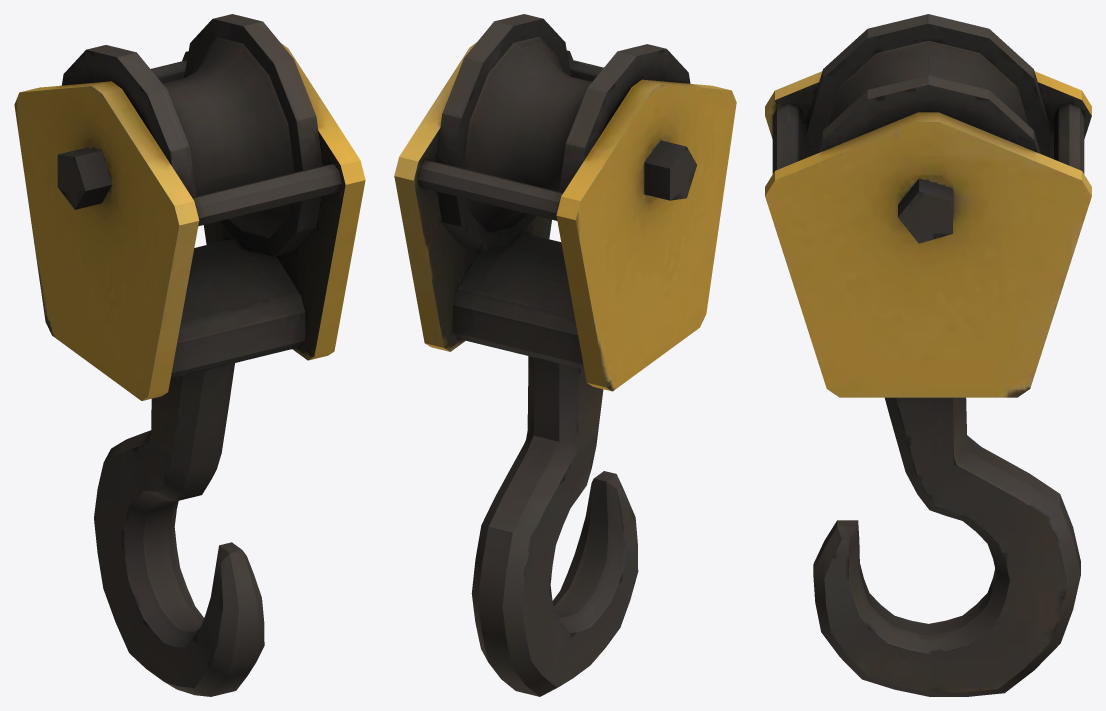
The picture shows the model from 3 angles, left to right: view 1: azimuth 30°, elevation 25°; view 2: azimuth 150°, elevation 25°; view 3: azimuth 270°, elevation 25°; orthographic projection. The views are drawn at different scales.
Parts seen in each view (by area): view 1: body0_model0_lod0_mesh0; view 2: body0_model0_lod0_mesh0; view 3: body0_model0_lod0_mesh0.
Boxes of the visible parts, bbox=[...] form: body0_model0_lod0_mesh0: bbox=[14, 14, 365, 696]; body0_model0_lod0_mesh0: bbox=[394, 14, 736, 696]; body0_model0_lod0_mesh0: bbox=[765, 14, 1091, 696].
Size of the model in its own units: 36 by 93.03 by 42.95.
Materials: 1 (1 with a texture image).
